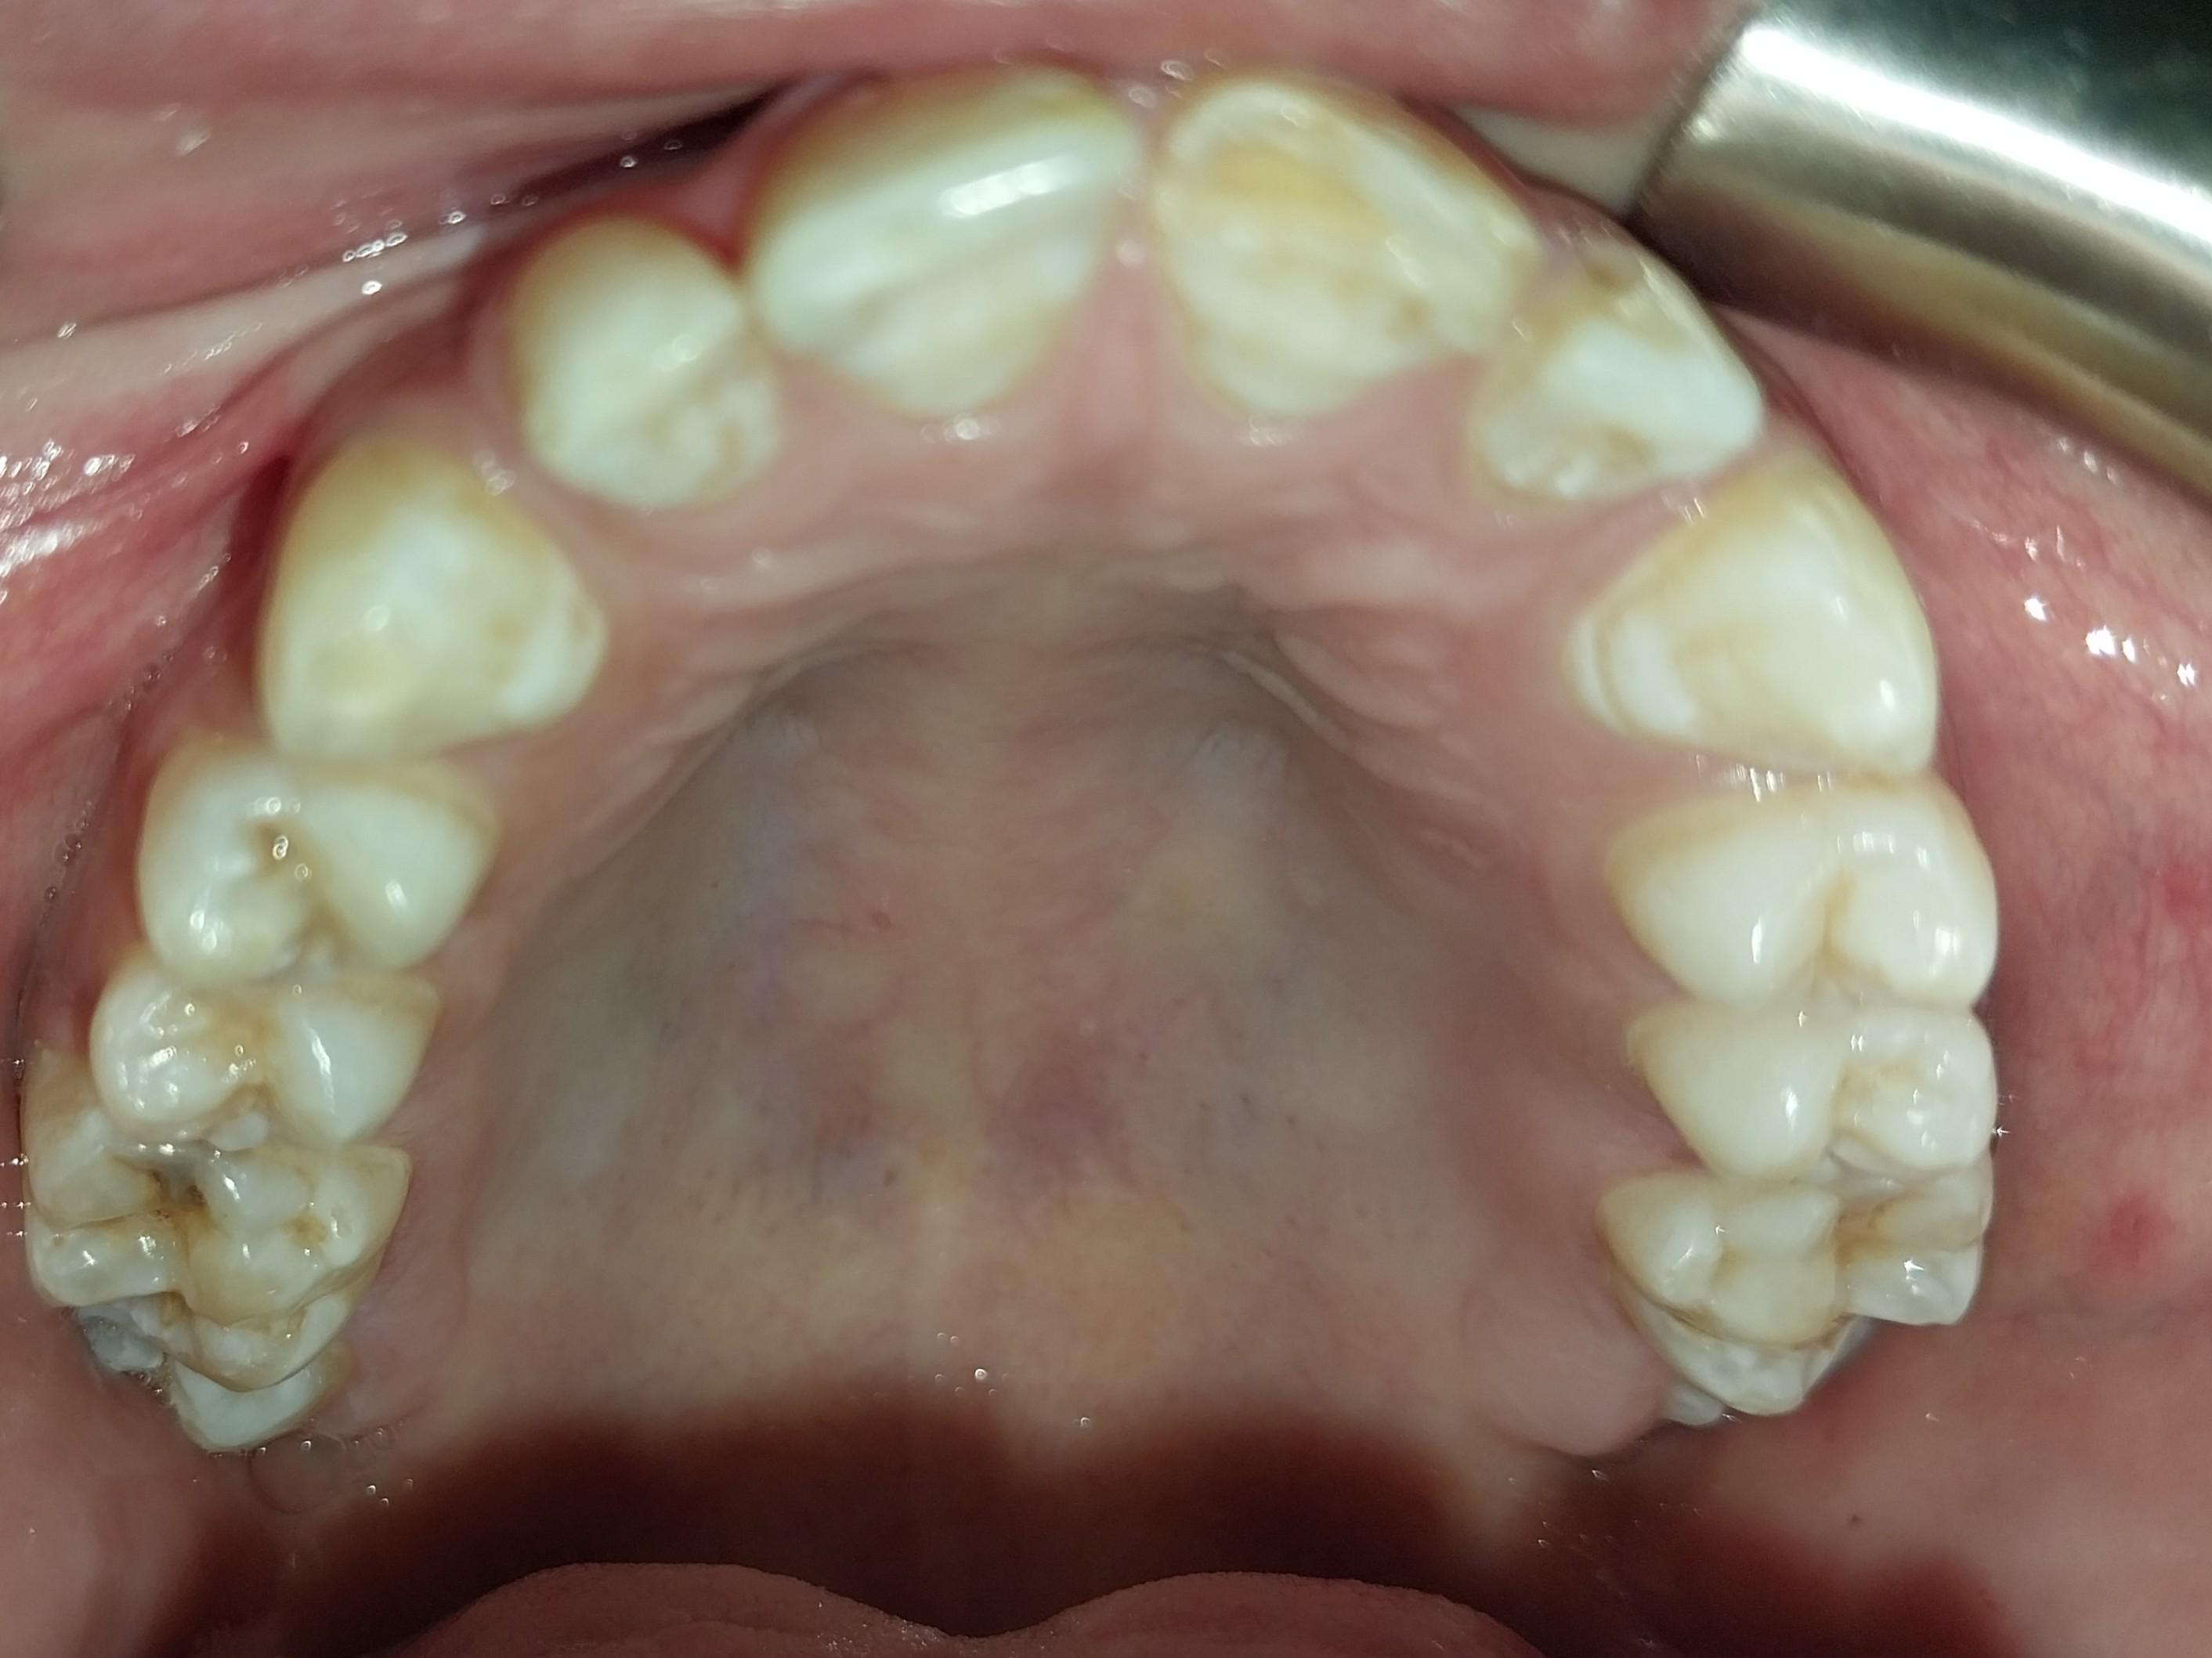D: (29, 1122, 403, 1371)
